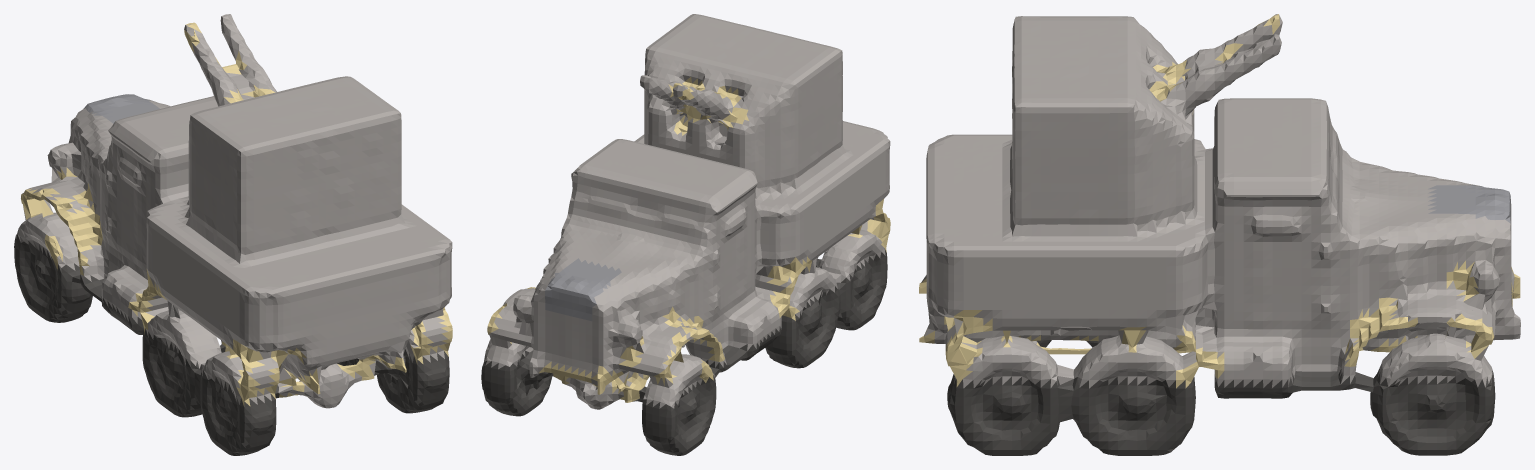
The model's file is unit_zephyr.glb.
The picture shows the model from 3 angles, left to right: view 1: azimuth 30°, elevation 25°; view 2: azimuth 150°, elevation 25°; view 3: azimuth 270°, elevation 25°; orthographic projection. The views are drawn at different scales.
Visible parts, largest first — view 1: Mesh_0.041; view 2: Mesh_0.041; view 3: Mesh_0.041.
Boxes of the visible parts, bbox=[...] form: Mesh_0.041: bbox=[14, 14, 452, 455]; Mesh_0.041: bbox=[481, 14, 890, 455]; Mesh_0.041: bbox=[919, 14, 1520, 455].
Bounding box in the file's own units: 1.25 × 1.85 × 2.7.
